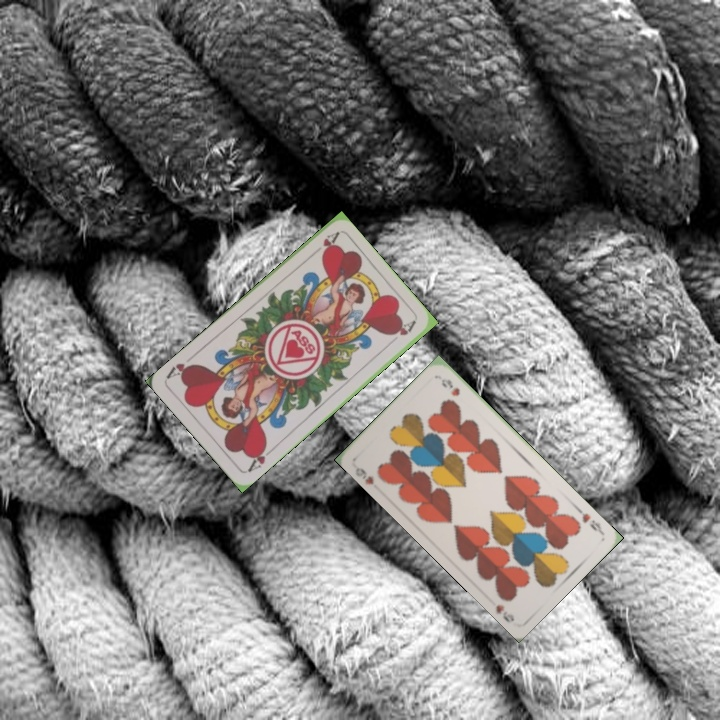H9: (572, 504, 605, 536), (351, 463, 377, 487)
HA: (243, 441, 277, 475), (317, 228, 341, 257)
